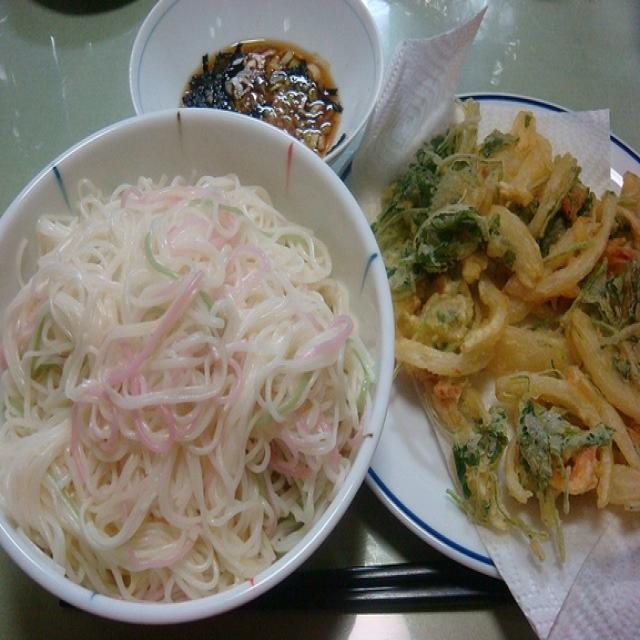面条主食: (0, 11, 638, 628)
